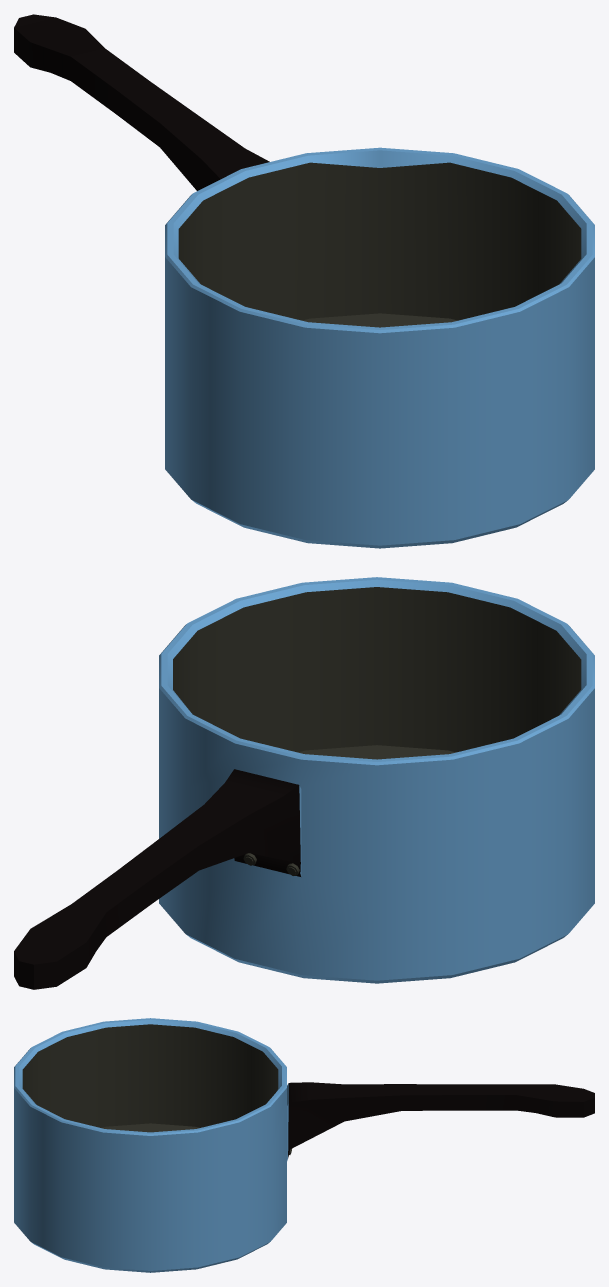
The model's file is Pot.FBX.
3 renders of one model, top to bottom at view 1: azimuth 30°, elevation 25°; view 2: azimuth 150°, elevation 25°; view 3: azimuth 270°, elevation 25°, orthographic. The views are drawn at different scales.
Visible parts, largest first — view 1: Cylinder009; view 2: Cylinder009; view 3: Cylinder009.
Part boxes in pixels (x1,y1,x2,y2): Cylinder009: [14, 14, 594, 548]; Cylinder009: [14, 577, 594, 989]; Cylinder009: [14, 1018, 594, 1272].
Bounding box in the file's own units: 12.29 × 6.84 × 25.75.
